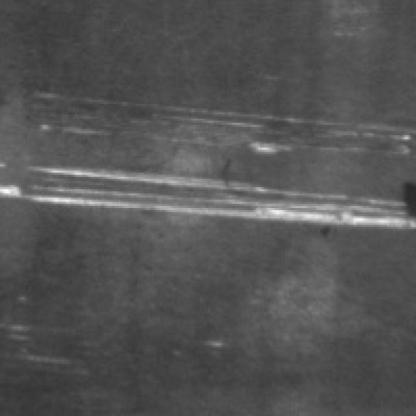scratches: (0, 160, 412, 229), (35, 85, 408, 150)
